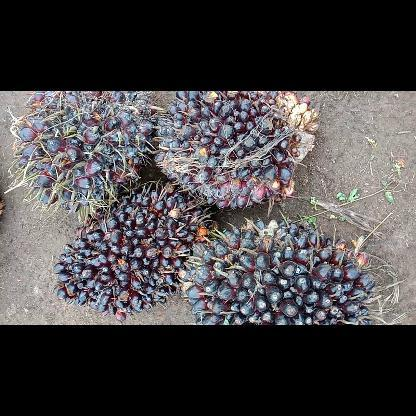TBS mentah: (49, 178, 220, 324), (178, 216, 378, 324), (152, 91, 320, 211), (13, 90, 155, 214)
